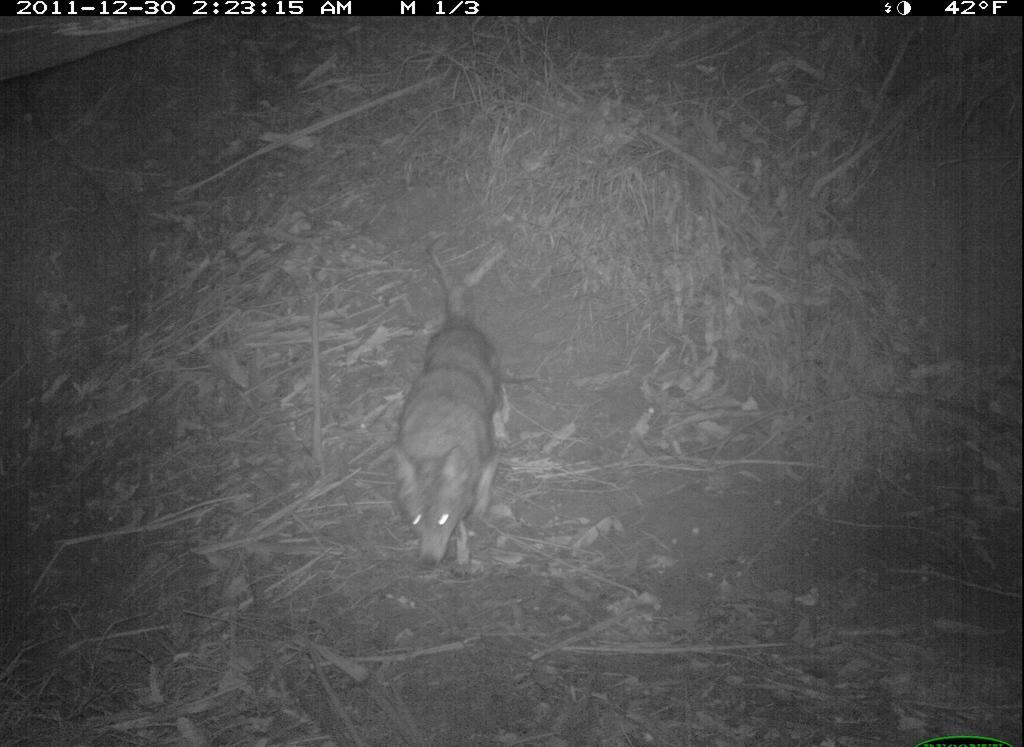coyote: (381, 237, 519, 596)
